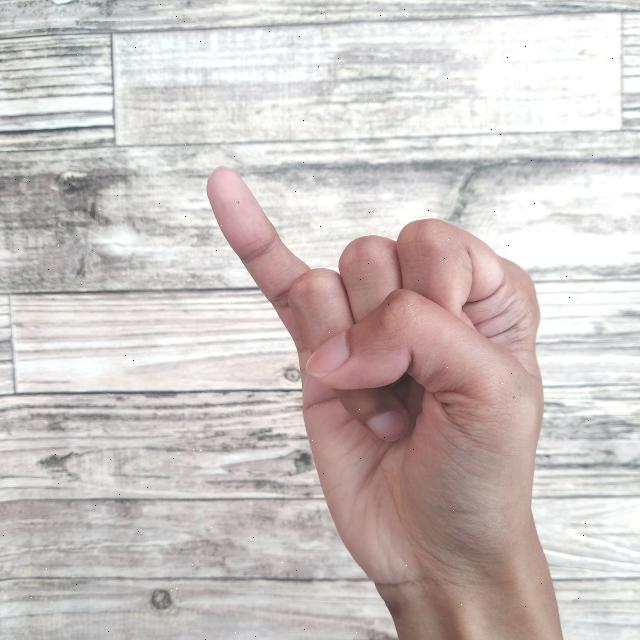I: (202, 161, 568, 640)
